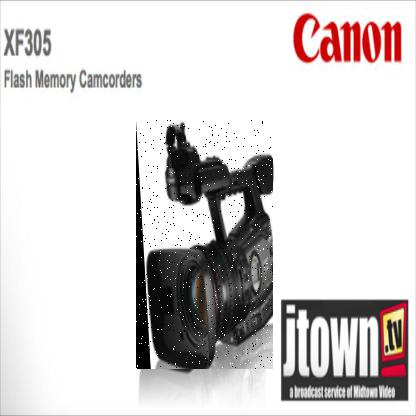Camera: (138, 121, 276, 371)
